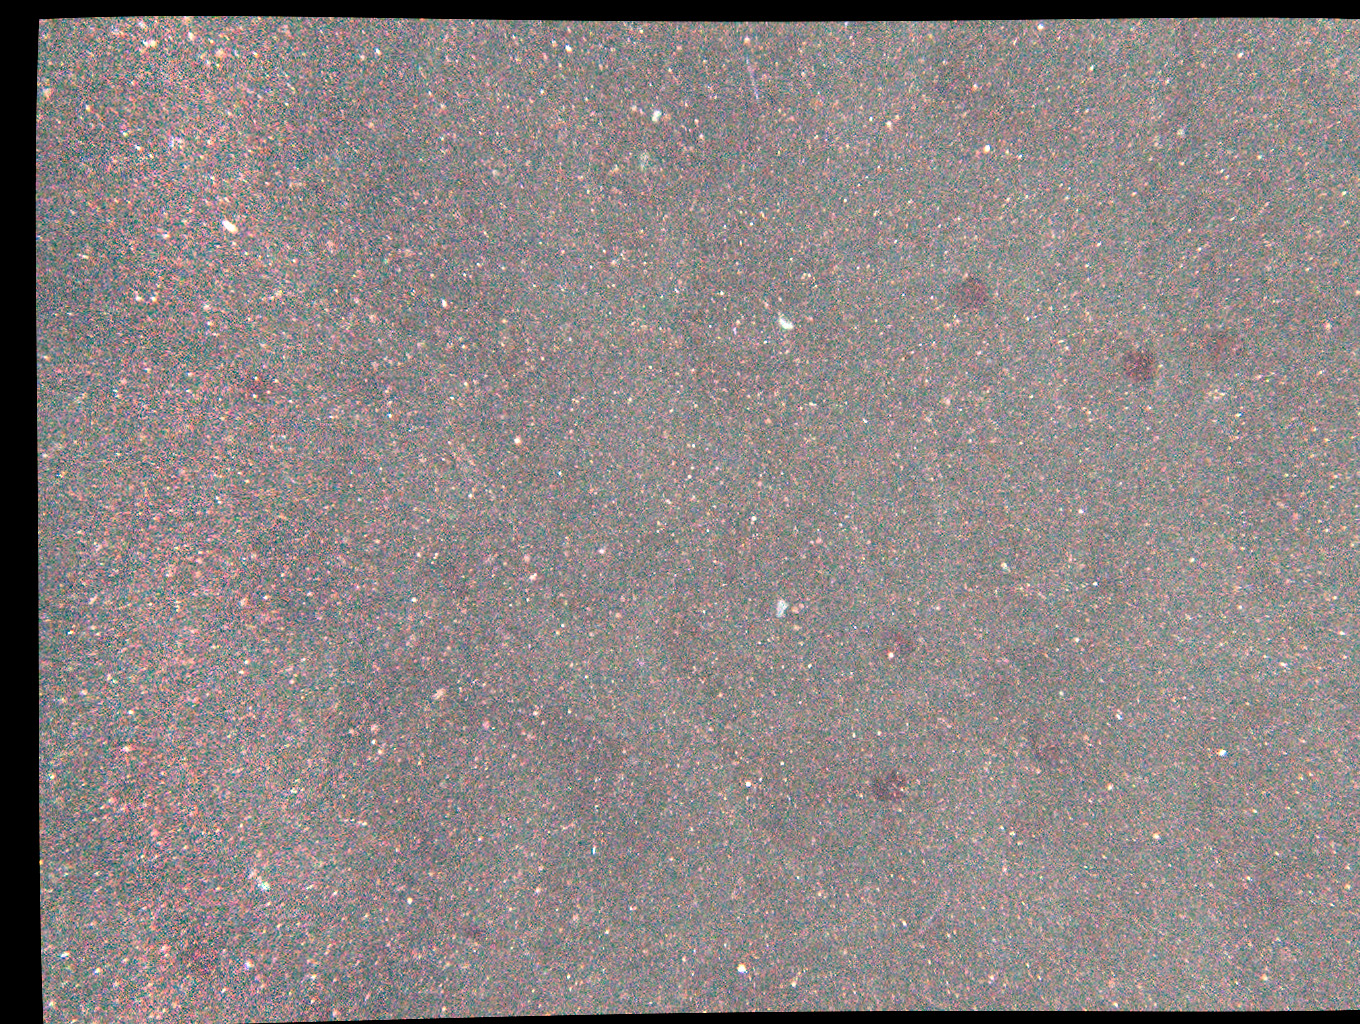Substrate A: (151, 40, 178, 68)
sand dollar: (957, 267, 1003, 311), (247, 352, 294, 396), (867, 764, 912, 808), (864, 623, 910, 667), (1208, 330, 1254, 374)
